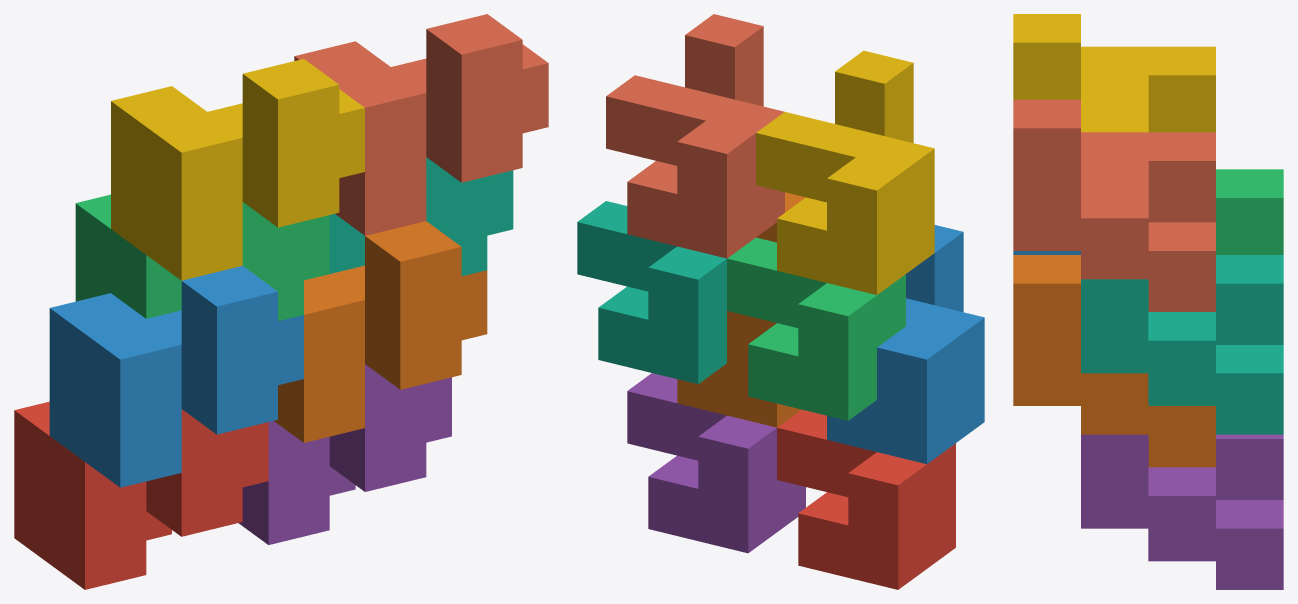
Rendered from tiling.obj.
3 renders of one model, left to right at view 1: azimuth 30°, elevation 25°; view 2: azimuth 150°, elevation 25°; view 3: azimuth 270°, elevation 25°, orthographic. The views are drawn at different scales.
Parts seen in each view (by area): view 1: copy_1_domain_4, copy_1_domain_2, copy_1_domain_8, copy_1_domain_6, copy_1_domain_1, copy_1_domain_5, copy_1_domain_3, copy_1_domain_7; view 2: copy_1_domain_4, copy_1_domain_8, copy_1_domain_1, copy_1_domain_3, copy_1_domain_2, copy_1_domain_5, copy_1_domain_7, copy_1_domain_6; view 3: copy_1_domain_8, copy_1_domain_7, copy_1_domain_5, copy_1_domain_6, copy_1_domain_4, copy_1_domain_3.
Part boxes in pixels (<box>): copy_1_domain_4: <box>111,59,364,280</box>; copy_1_domain_2: <box>49,266,303,487</box>; copy_1_domain_8: <box>294,14,548,235</box>; copy_1_domain_6: <box>274,221,487,442</box>; copy_1_domain_1: <box>14,401,268,589</box>; copy_1_domain_5: <box>238,364,451,544</box>; copy_1_domain_3: <box>75,194,329,320</box>; copy_1_domain_7: <box>329,157,513,276</box>; copy_1_domain_4: <box>756,50,934,294</box>; copy_1_domain_8: <box>606,14,784,258</box>; copy_1_domain_1: <box>777,409,955,589</box>; copy_1_domain_3: <box>727,237,905,420</box>; copy_1_domain_2: <box>827,225,984,463</box>; copy_1_domain_5: <box>627,373,805,553</box>; copy_1_domain_7: <box>577,201,726,384</box>; copy_1_domain_6: <box>677,192,805,427</box>; copy_1_domain_8: <box>1013,99,1215,311</box>; copy_1_domain_7: <box>1081,255,1283,434</box>; copy_1_domain_5: <box>1081,434,1283,589</box>; copy_1_domain_6: <box>1013,255,1215,467</box>; copy_1_domain_4: <box>1013,14,1215,132</box>; copy_1_domain_3: <box>1216,169,1283,254</box>.
Size of the model in its own units: 7 by 8 by 4.
